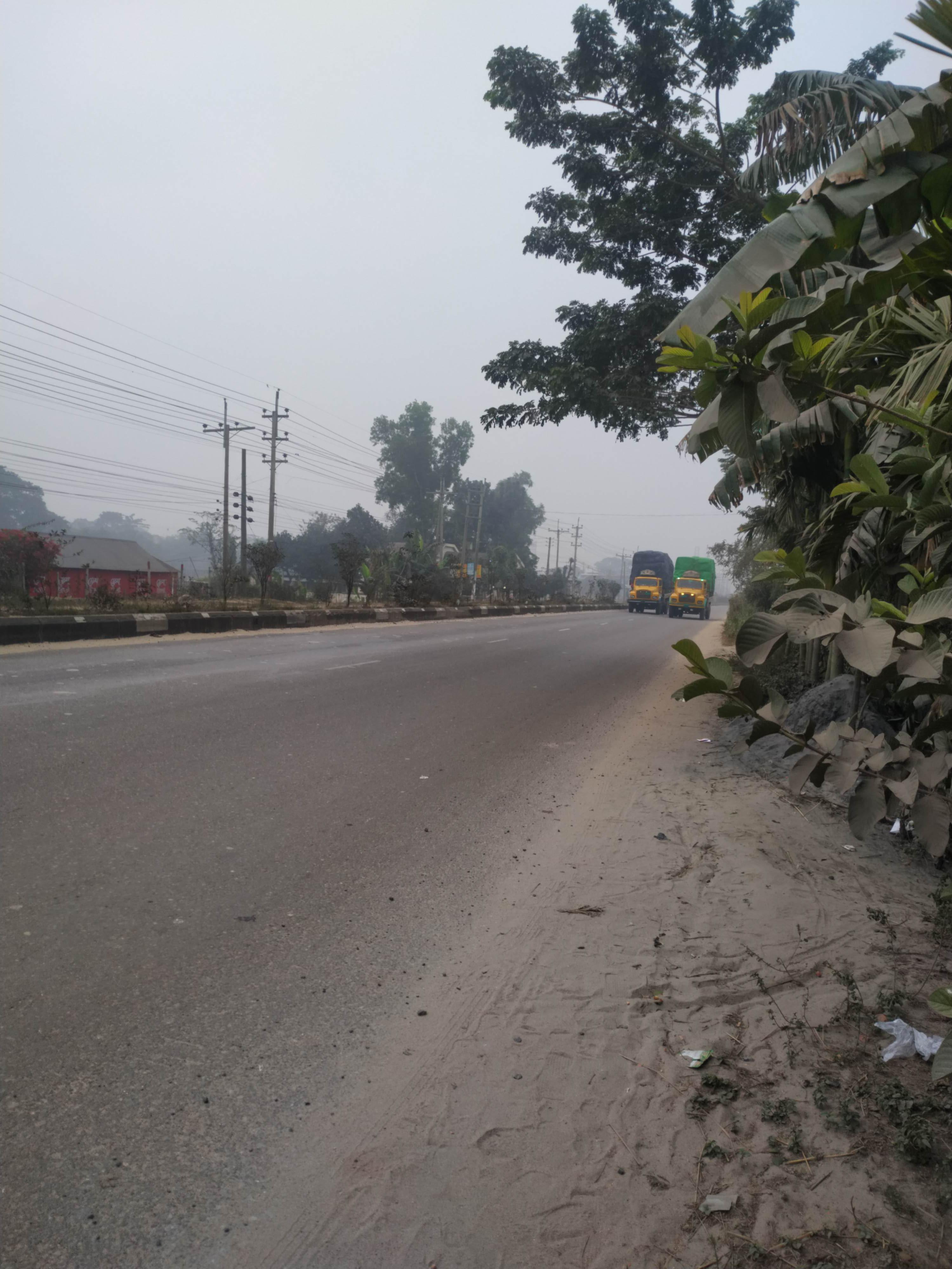Truck: (669, 551, 724, 628), (620, 544, 670, 625)
